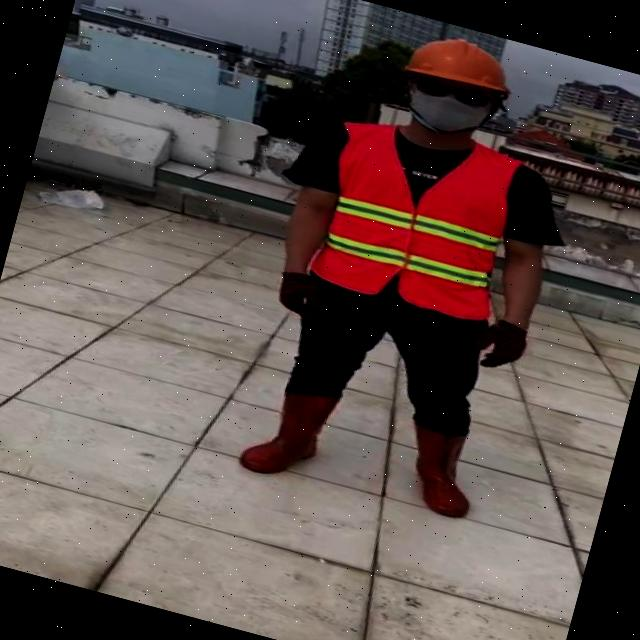boots: (388, 420, 490, 522), (240, 380, 338, 486)
